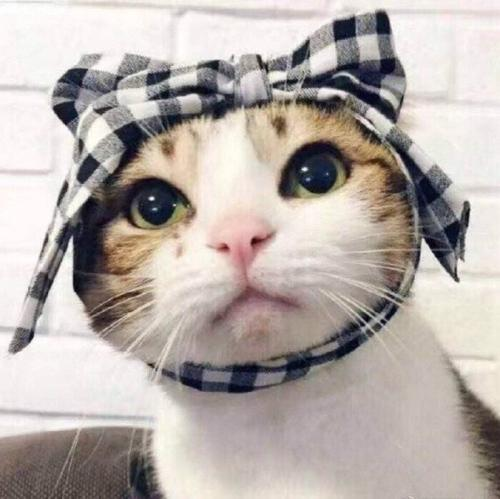cat: (51, 65, 445, 420)
